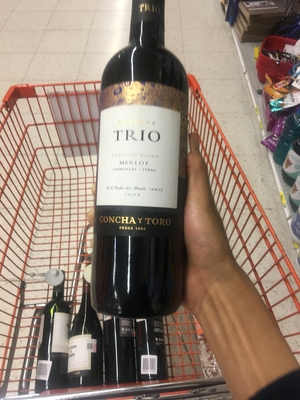trio merlot: (88, 17, 189, 276)
